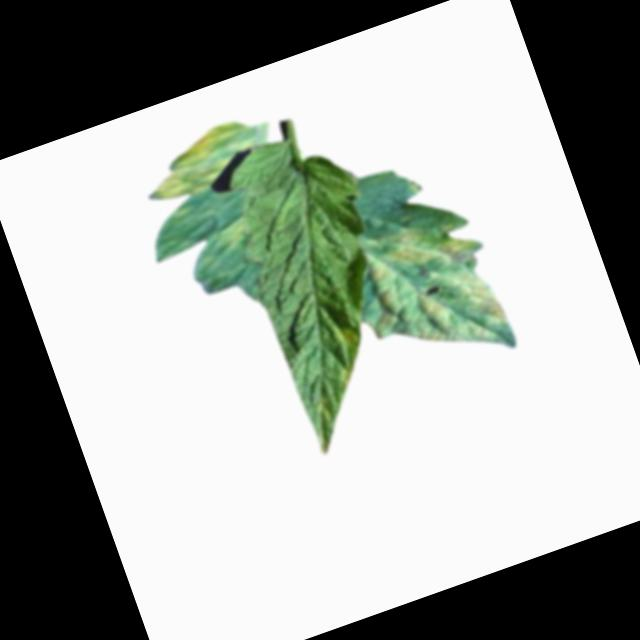Leaf_Mold: (341, 198, 517, 378), (135, 113, 264, 210), (217, 214, 255, 249), (329, 322, 365, 355)
